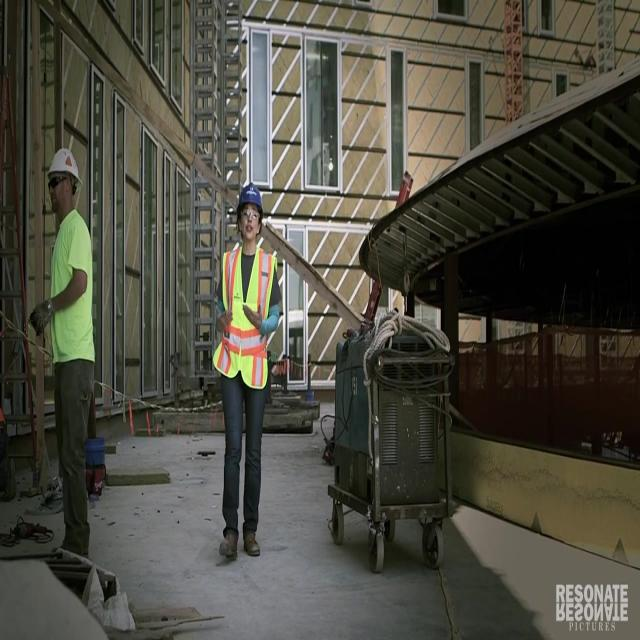Reflective-Jacket: (210, 240, 286, 399), (41, 213, 101, 374)
Safety-Helmet: (41, 140, 85, 193), (229, 172, 271, 222)
